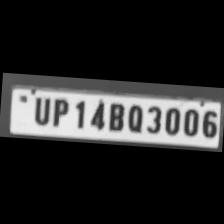0: (160, 103, 180, 135), (180, 105, 200, 136)
1: (70, 97, 89, 130)
3: (142, 102, 162, 134)
4: (84, 97, 106, 131)
6: (198, 108, 218, 139)
B: (104, 99, 125, 131)
P: (48, 96, 70, 128)
Q: (125, 102, 144, 133)
U: (28, 93, 52, 125)
